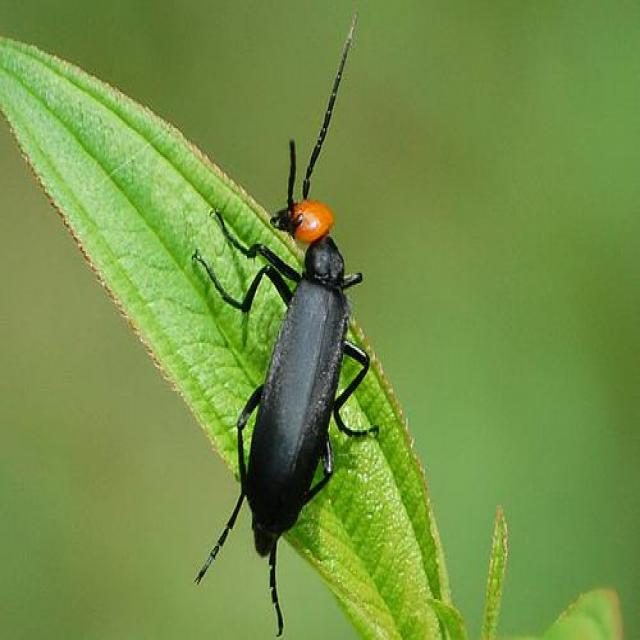BlisterBeetle-Adult-: (190, 15, 391, 602)
